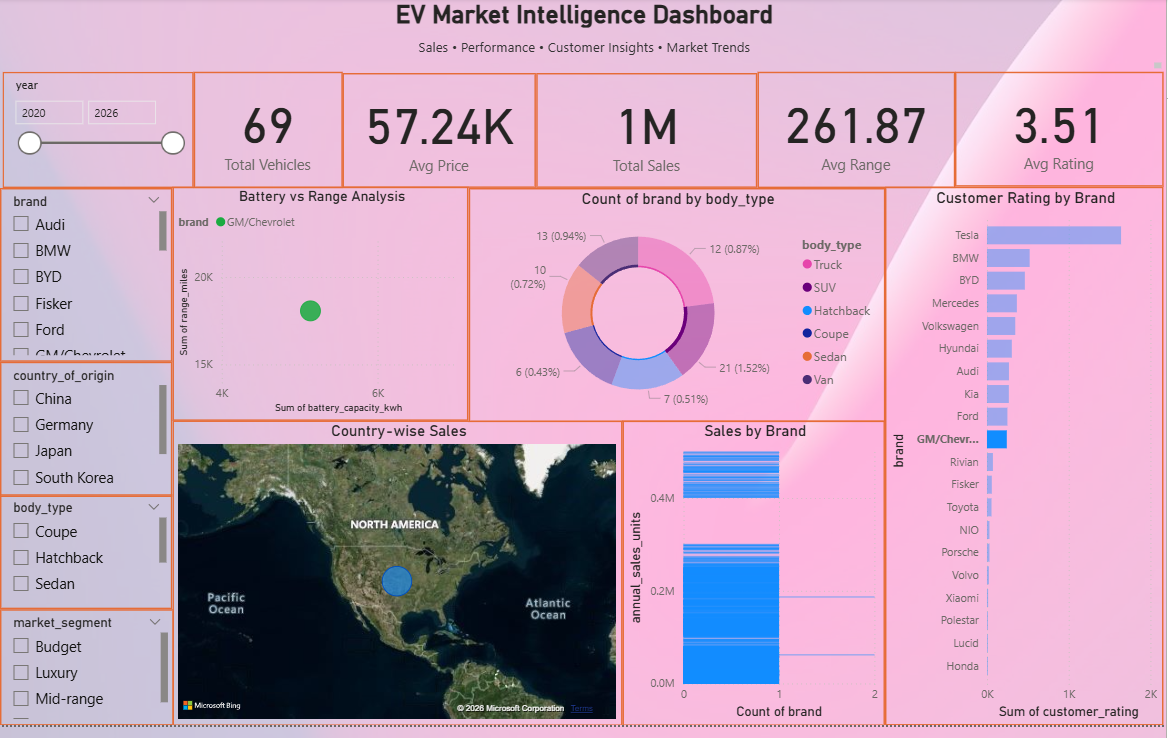

The page's visual inventory and layout, read from the dashboard file:
{"tool":"powerbi","page":{"name":"Page 1","canvas":[1283,800],"ordinal":0},"visuals":[{"type":"card","fields":{"Values":["ev_market_2026.Total Vehicles"]},"box":[213.2,81.2,163.7,127.9],"z":0},{"type":"card","fields":{"Values":["ev_market_2026.Avg Price"]},"box":[376.9,82.5,213.2,126.5],"z":1000},{"type":"card","fields":{"Values":["ev_market_2026.Total Sales"]},"box":[590.1,82.5,243.5,126.5],"z":2000},{"type":"card","fields":{"Values":["ev_market_2026.Avg Range"]},"box":[833.5,81.2,217.3,127.9],"z":3000},{"type":"card","fields":{"Values":["ev_market_2026.Avg Rating"]},"box":[1050.8,81.2,229.7,126.5],"z":4000},{"type":"clusteredBarChart","title":"Sales by Brand","fields":{"Category":["ev_market_2026.annual_sales_units"],"Y":["CountNonNull(ev_market_2026.brand)"]},"box":[685,464.9,288.8,335.6],"z":5000},{"type":"scatterChart","title":"Battery vs Range Analysis","fields":{"X":["Sum(ev_market_2026.battery_capacity_kwh)"],"Y":["Sum(ev_market_2026.range_miles)"],"Series":["ev_market_2026.brand"],"Size":["Sum(ev_market_2026.annual_sales_units)"]},"box":[189.8,207.7,326,257.2],"z":6000},{"type":"donutChart","title":"Count of brand by body_type","fields":{"Category":["ev_market_2026.body_type"],"Y":["CountNonNull(ev_market_2026.brand)"]},"box":[515.8,209.1,458,257.2],"z":6001},{"type":"clusteredBarChart","title":"Customer Rating by Brand","fields":{"Category":["ev_market_2026.brand"],"Y":["Sum(ev_market_2026.customer_rating)"]},"box":[973.8,207.7,306.7,592.8],"z":6002},{"type":"map","title":"Country-wise Sales","fields":{"Category":["ev_market_2026.country_of_origin"],"Size":["Sum(ev_market_2026.annual_sales_units)"]},"box":[189.8,464.9,495.2,335.6],"z":6003},{"type":"slicer","fields":{"Values":["ev_market_2026.year"]},"box":[2.8,81.2,210.4,127.9],"z":6004},{"type":"slicer","fields":{"Values":["ev_market_2026.brand"]},"box":[0,209.1,189.8,191.2],"z":6005},{"type":"slicer","fields":{"Values":["ev_market_2026.body_type"]},"box":[0,546,189.8,126.5],"z":6007},{"type":"slicer","fields":{"Values":["ev_market_2026.market_segment"]},"box":[0,672.6,191.2,127.9],"z":6008},{"type":"slicer","fields":{"Values":["ev_market_2026.country_of_origin"]},"box":[0,400.3,189.8,148.5],"z":6009},{"type":"textbox","title":"EV Market Intelligence Dashboard","box":[2.8,1.4,1280.5,81.2],"z":6010}]}

Visuals, with their boxes in screenshot pixels (x1, y1, x2, y2), scaled from the page's 1283x800 canvas onto the 1168x738 screenshot:
card - ev_market_2026.Total Vehicles: detection(194, 75, 343, 193)
card - ev_market_2026.Avg Price: detection(343, 76, 537, 193)
card - ev_market_2026.Total Sales: detection(537, 76, 759, 193)
card - ev_market_2026.Avg Range: detection(759, 75, 957, 193)
card - ev_market_2026.Avg Rating: detection(957, 75, 1166, 192)
"Sales by Brand" clusteredBarChart: detection(624, 429, 887, 737)
"Battery vs Range Analysis" scatterChart: detection(173, 192, 470, 429)
"Count of brand by body_type" donutChart: detection(470, 193, 887, 430)
"Customer Rating by Brand" clusteredBarChart: detection(887, 192, 1166, 737)
"Country-wise Sales" map: detection(173, 429, 624, 737)
slicer - ev_market_2026.year: detection(3, 75, 194, 193)
slicer - ev_market_2026.brand: detection(0, 193, 173, 369)
slicer - ev_market_2026.body_type: detection(0, 504, 173, 620)
slicer - ev_market_2026.market_segment: detection(0, 620, 174, 737)
slicer - ev_market_2026.country_of_origin: detection(0, 369, 173, 506)
"EV Market Intelligence Dashboard" textbox: detection(3, 1, 1167, 76)
